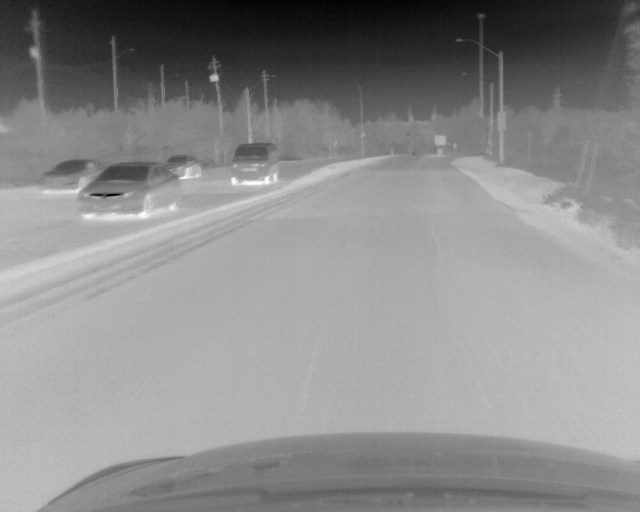car: (78, 161, 182, 219), (38, 156, 102, 196), (230, 142, 279, 183), (167, 153, 205, 180)
